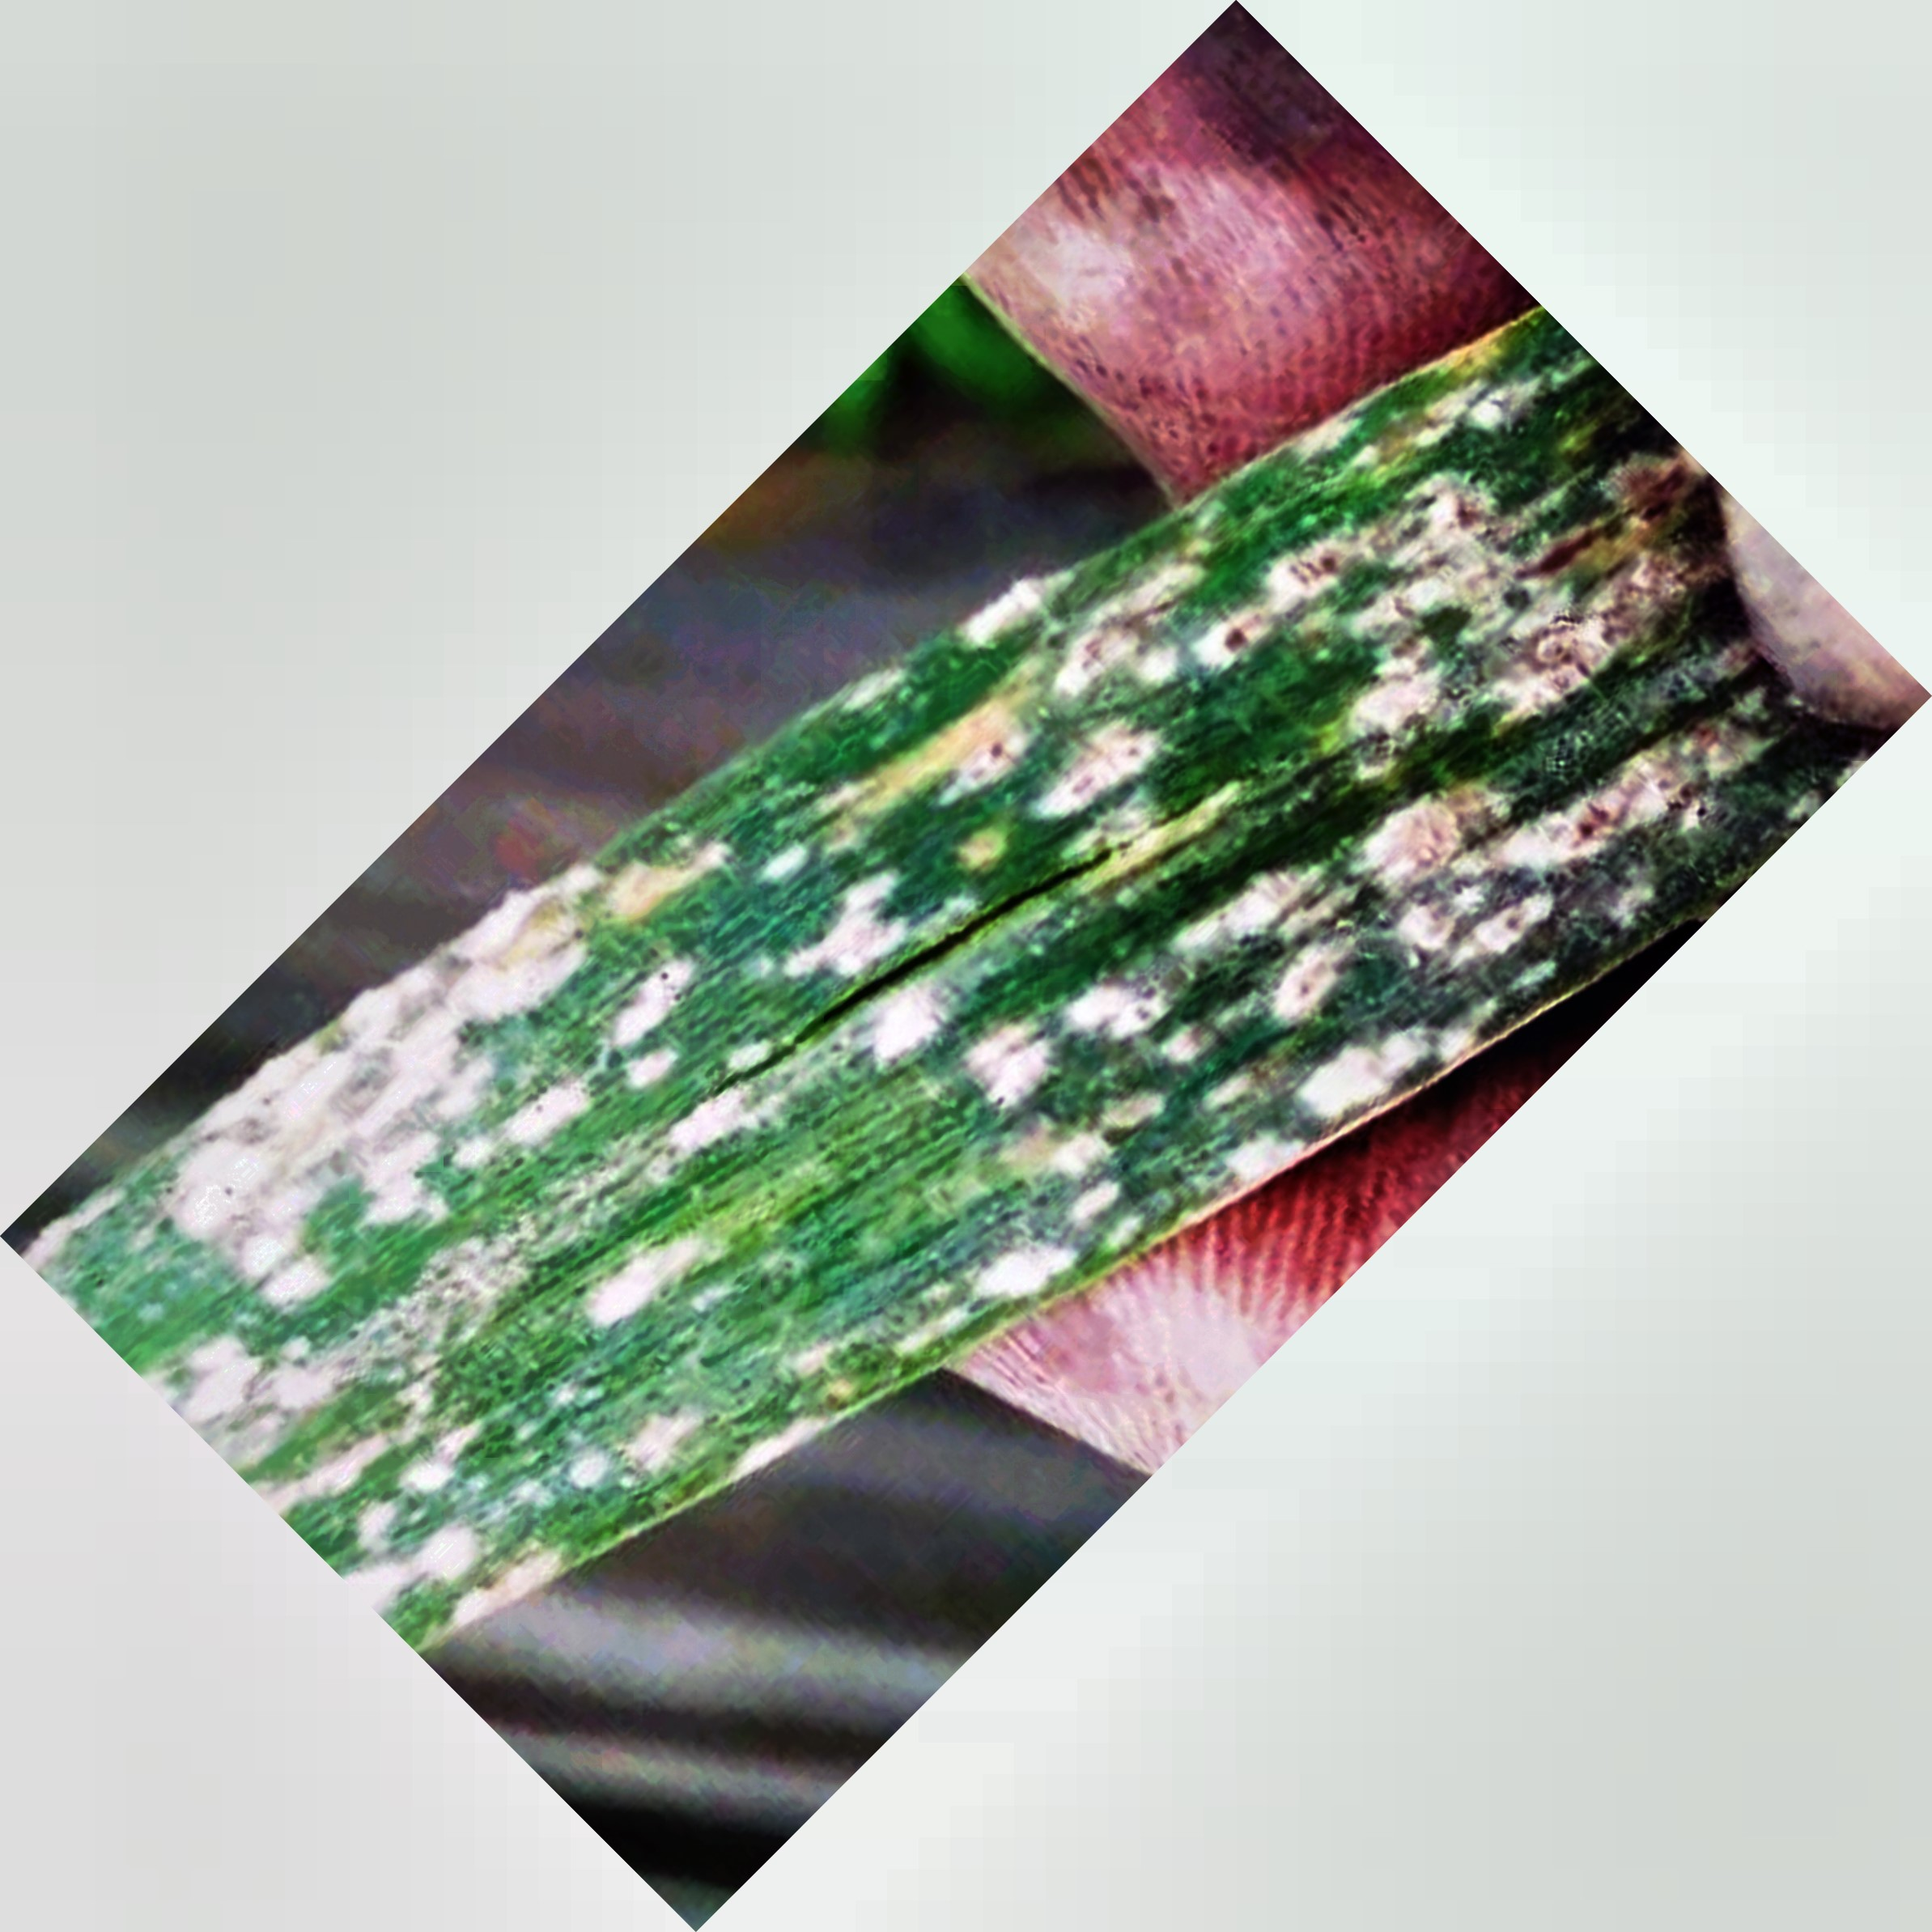Powdery Mildew: (280, 403, 1660, 1575)
